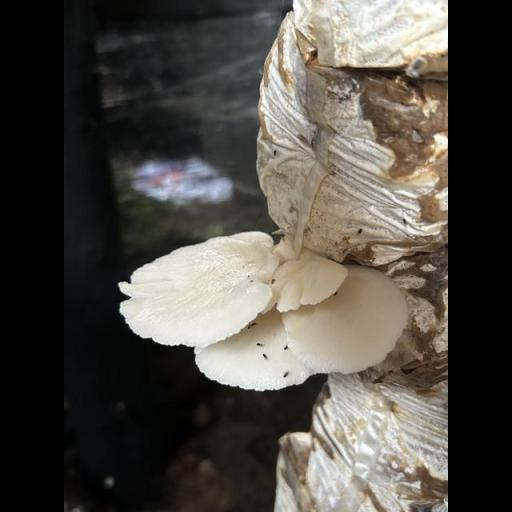White Oyster Mushroom: (113, 227, 422, 407)
